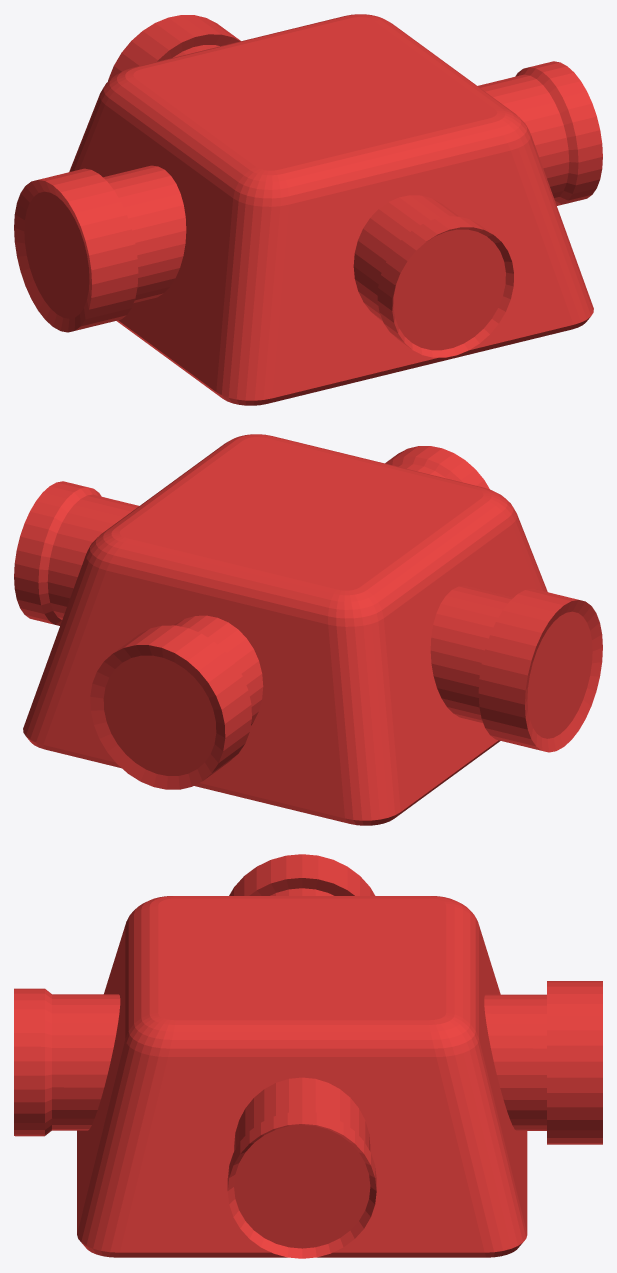
Rendered from Num1.fbx.
3 renders of one model, top to bottom at view 1: azimuth 30°, elevation 25°; view 2: azimuth 150°, elevation 25°; view 3: azimuth 270°, elevation 25°, orthographic. The views are drawn at different scales.
Parts seen in each view (by area): view 1: Cube.007; view 2: Cube.007; view 3: Cube.007.
Boxes of the visible parts, x1,y1,x2,y2 form: Cube.007: (14, 14, 602, 405); Cube.007: (14, 434, 602, 825); Cube.007: (14, 854, 602, 1258).
Bounding box in the file's own units: 2.74 × 1 × 2.59.
